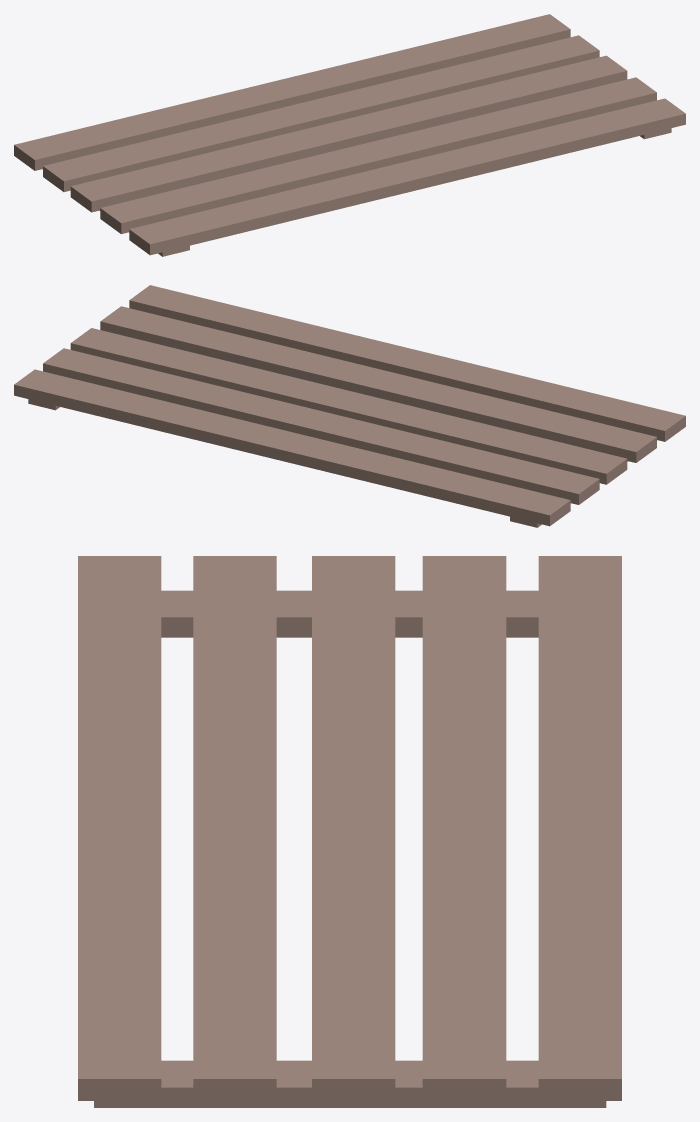
File: Park_tafel_zonder poten.fbx
3 renders of one model, top to bottom at view 1: azimuth 30°, elevation 25°; view 2: azimuth 150°, elevation 25°; view 3: azimuth 270°, elevation 25°, orthographic. The views are drawn at different scales.
Visible parts, largest first — view 1: polySurface5; view 2: polySurface5; view 3: polySurface5.
Part boxes in pixels (x1,y1,x2,y2): polySurface5: [14, 14, 685, 256]; polySurface5: [14, 285, 685, 527]; polySurface5: [78, 556, 621, 1107].
Size of the model in its own units: 14.84 by 0.5143 by 6.53.
